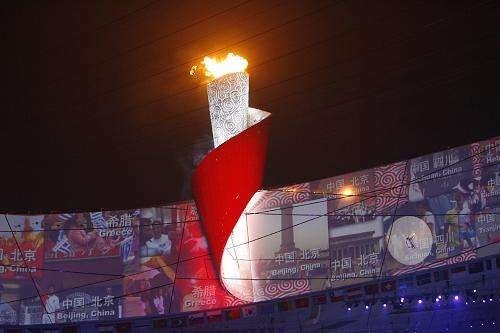fire: (191, 49, 251, 80)
